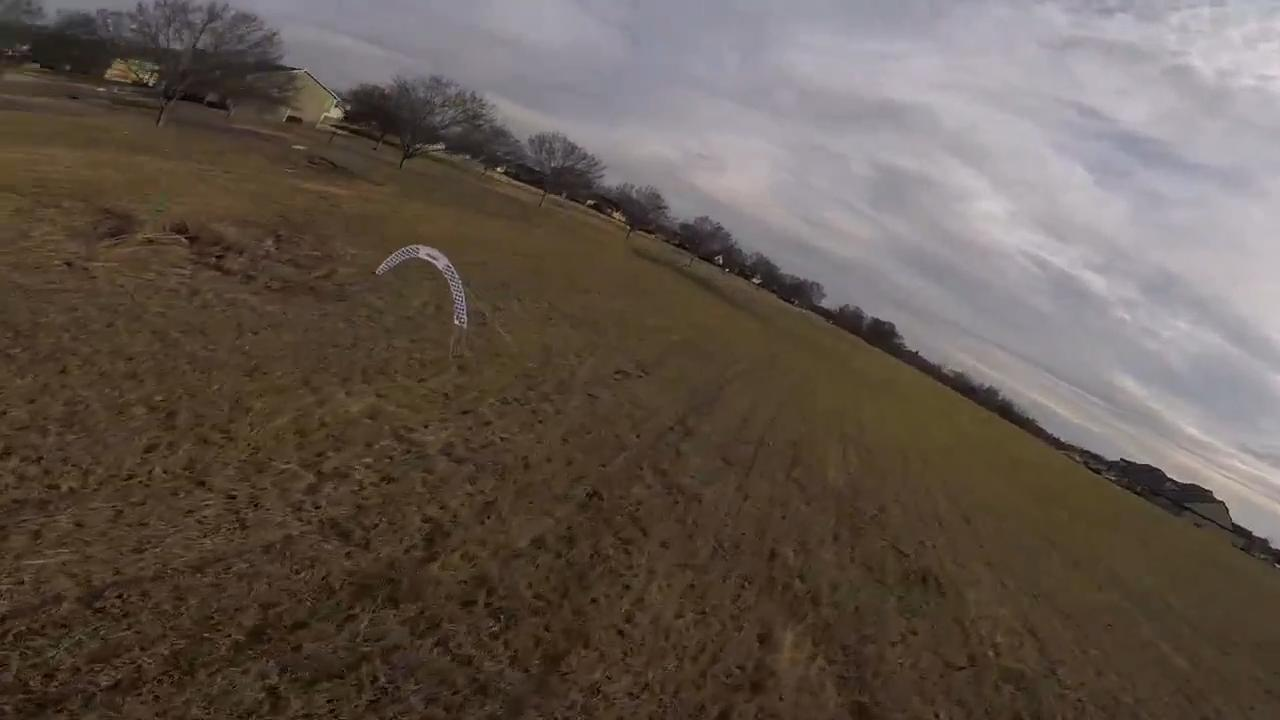gate: (372, 241, 468, 335)
